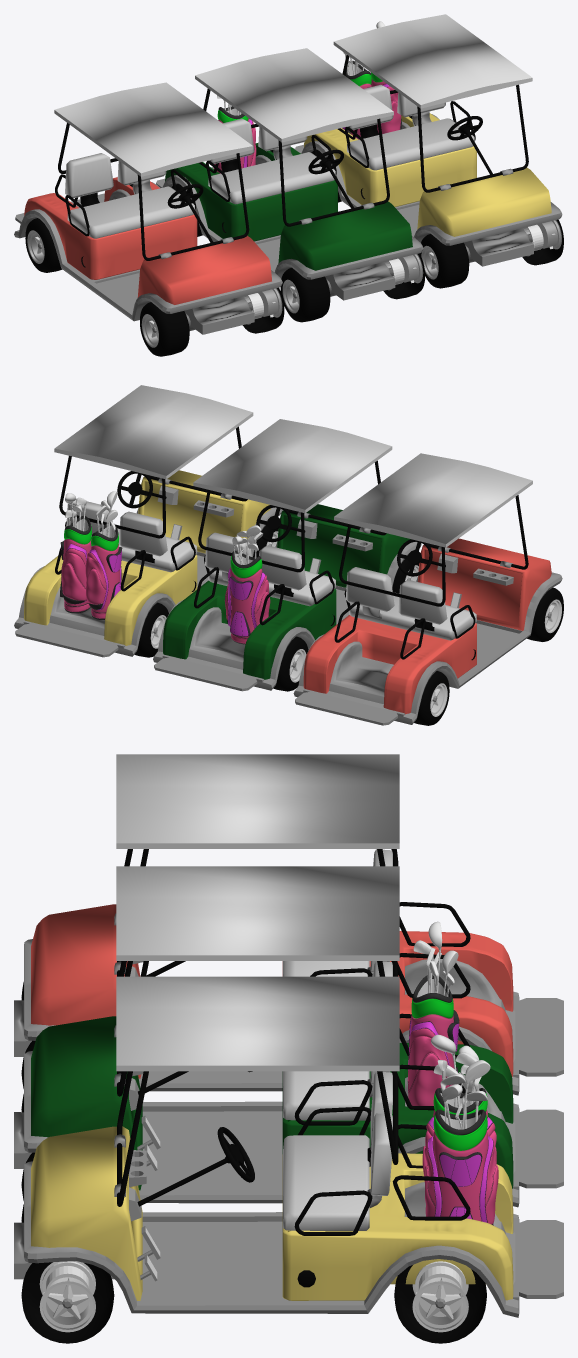
File: golf_cart_various.glb
The picture shows the model from 3 angles, top to bottom: view 1: azimuth 30°, elevation 25°; view 2: azimuth 150°, elevation 25°; view 3: azimuth 270°, elevation 25°; orthographic projection. The views are drawn at different scales.
Visible parts, largest first — view 1: Cart 1, Cart 2, Cart 3; view 2: Cart 1, Cart 2, Cart 3; view 3: Cart 3, Cart 2, Cart 1.
Boxes of the visible parts, bbox=[...] form: Cart 1: bbox=[14, 82, 284, 356]; Cart 2: bbox=[156, 48, 424, 322]; Cart 3: bbox=[295, 14, 563, 288]; Cart 1: bbox=[293, 453, 563, 725]; Cart 2: bbox=[153, 419, 421, 691]; Cart 3: bbox=[14, 385, 282, 657]; Cart 3: bbox=[14, 976, 563, 1343]; Cart 2: bbox=[14, 866, 563, 1207]; Cart 1: bbox=[14, 754, 563, 1095].
Size of the model in its own units: 10.1 by 4.16 by 7.33.
